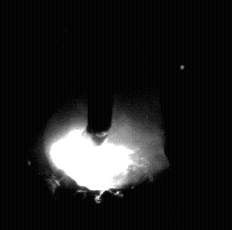arame: (88, 0, 113, 144)
poca: (43, 0, 165, 230)
